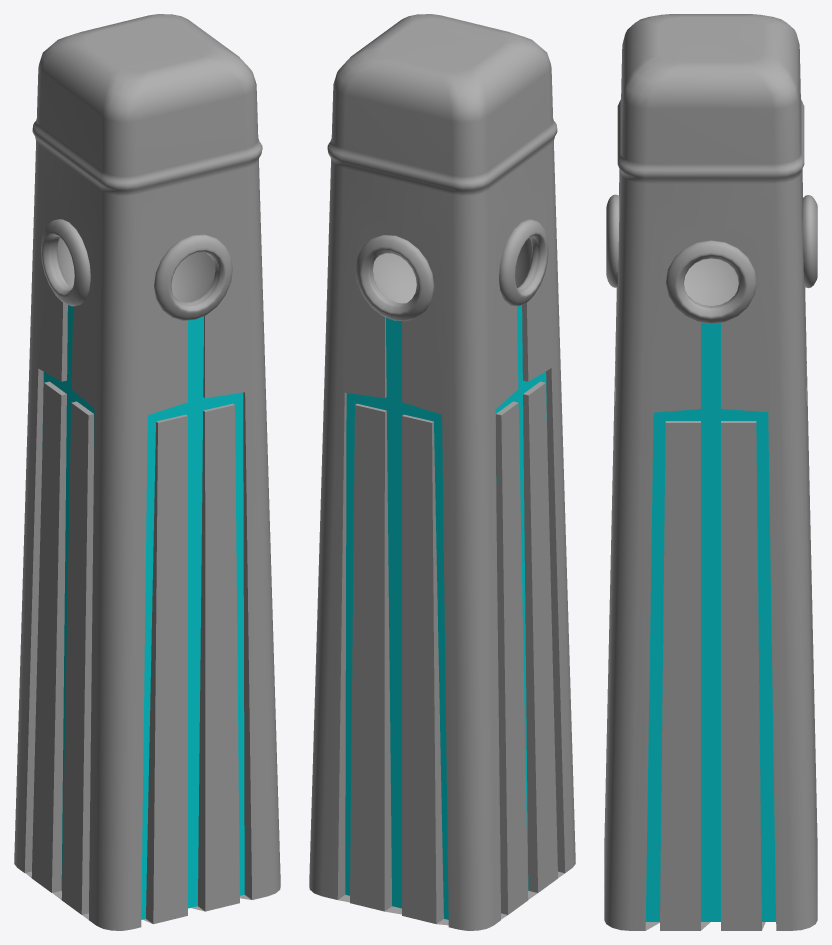
Rendered from pilierdavid.fbx.
3 renders of one model, left to right at view 1: azimuth 30°, elevation 25°; view 2: azimuth 150°, elevation 25°; view 3: azimuth 270°, elevation 25°, orthographic. The views are drawn at different scales.
Parts seen in each view (by area): view 1: pCube123; view 2: pCube123; view 3: pCube123.
Boxes of the visible parts, x1,y1,x2,y2 form: pCube123: (14,14,280,930); pCube123: (309,14,575,930); pCube123: (604,14,817,930).
Size of the model in its own units: 1.21 by 5.3 by 1.21.
